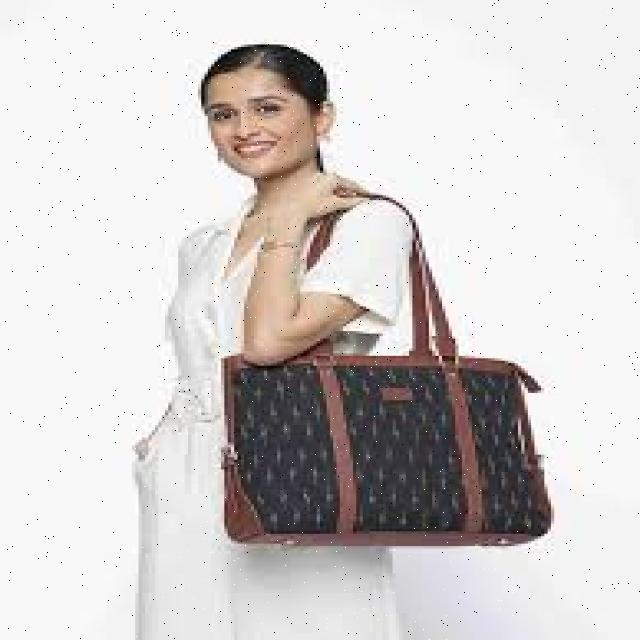handbag: (218, 190, 551, 546)
